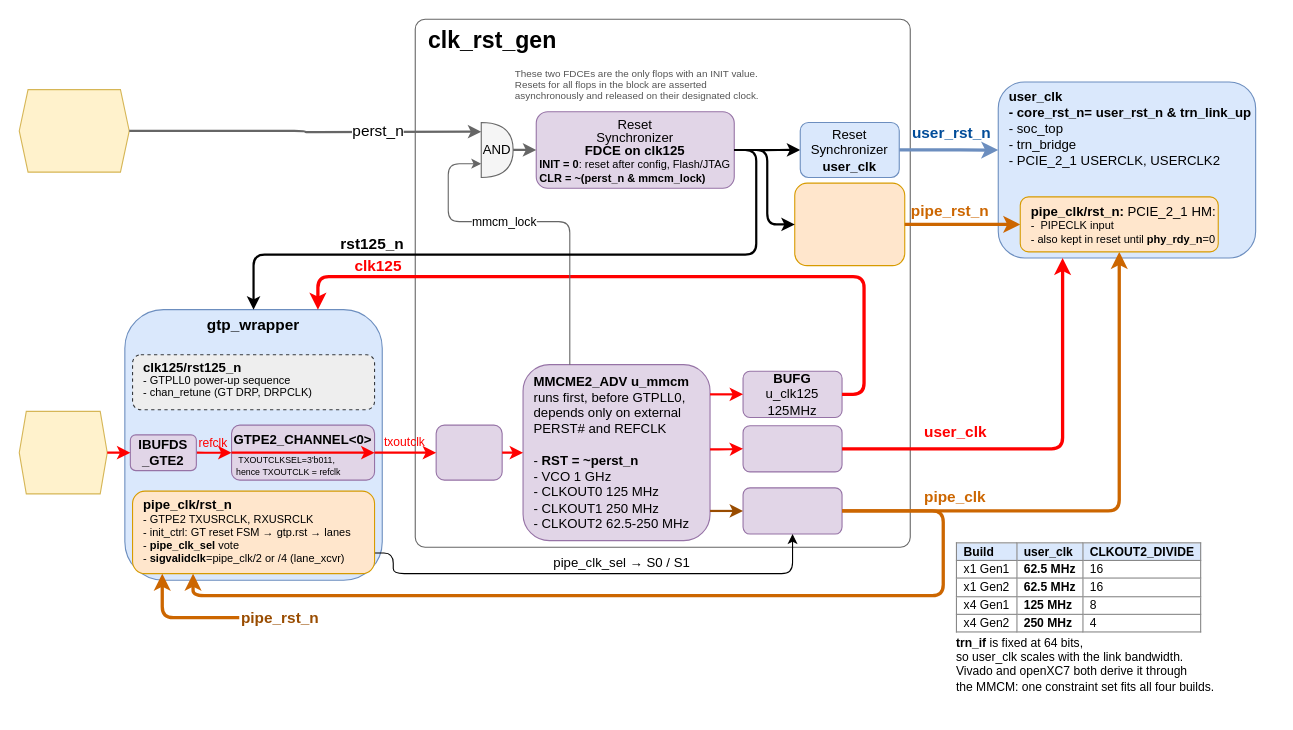
This 1293x730 diagram has some shape labels left out. The shapes that lost their labels are listed below. From the top down, each one's centre as x and y in pixels, then its label:
[73,130]: PERST# (pin J1) active low for at least 100ms
[849,224]: Reset Synchronizer pipe_clk Gen1: 125MHz Gen2: 250MHz
[62,452]: refclk_p/n 100 MHz
[468,452]: BUFG u_txoutclk
[792,448]: BUFG u_user_clk 62.5-250MHz
[792,510]: BUFGCTRL u_pipe_clk 125/250 MHz
